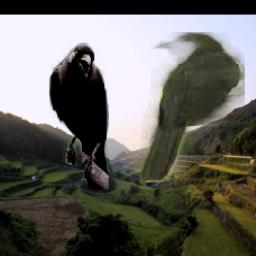Crow: (51, 43, 110, 190)
Cuckoo: (141, 33, 246, 183)
